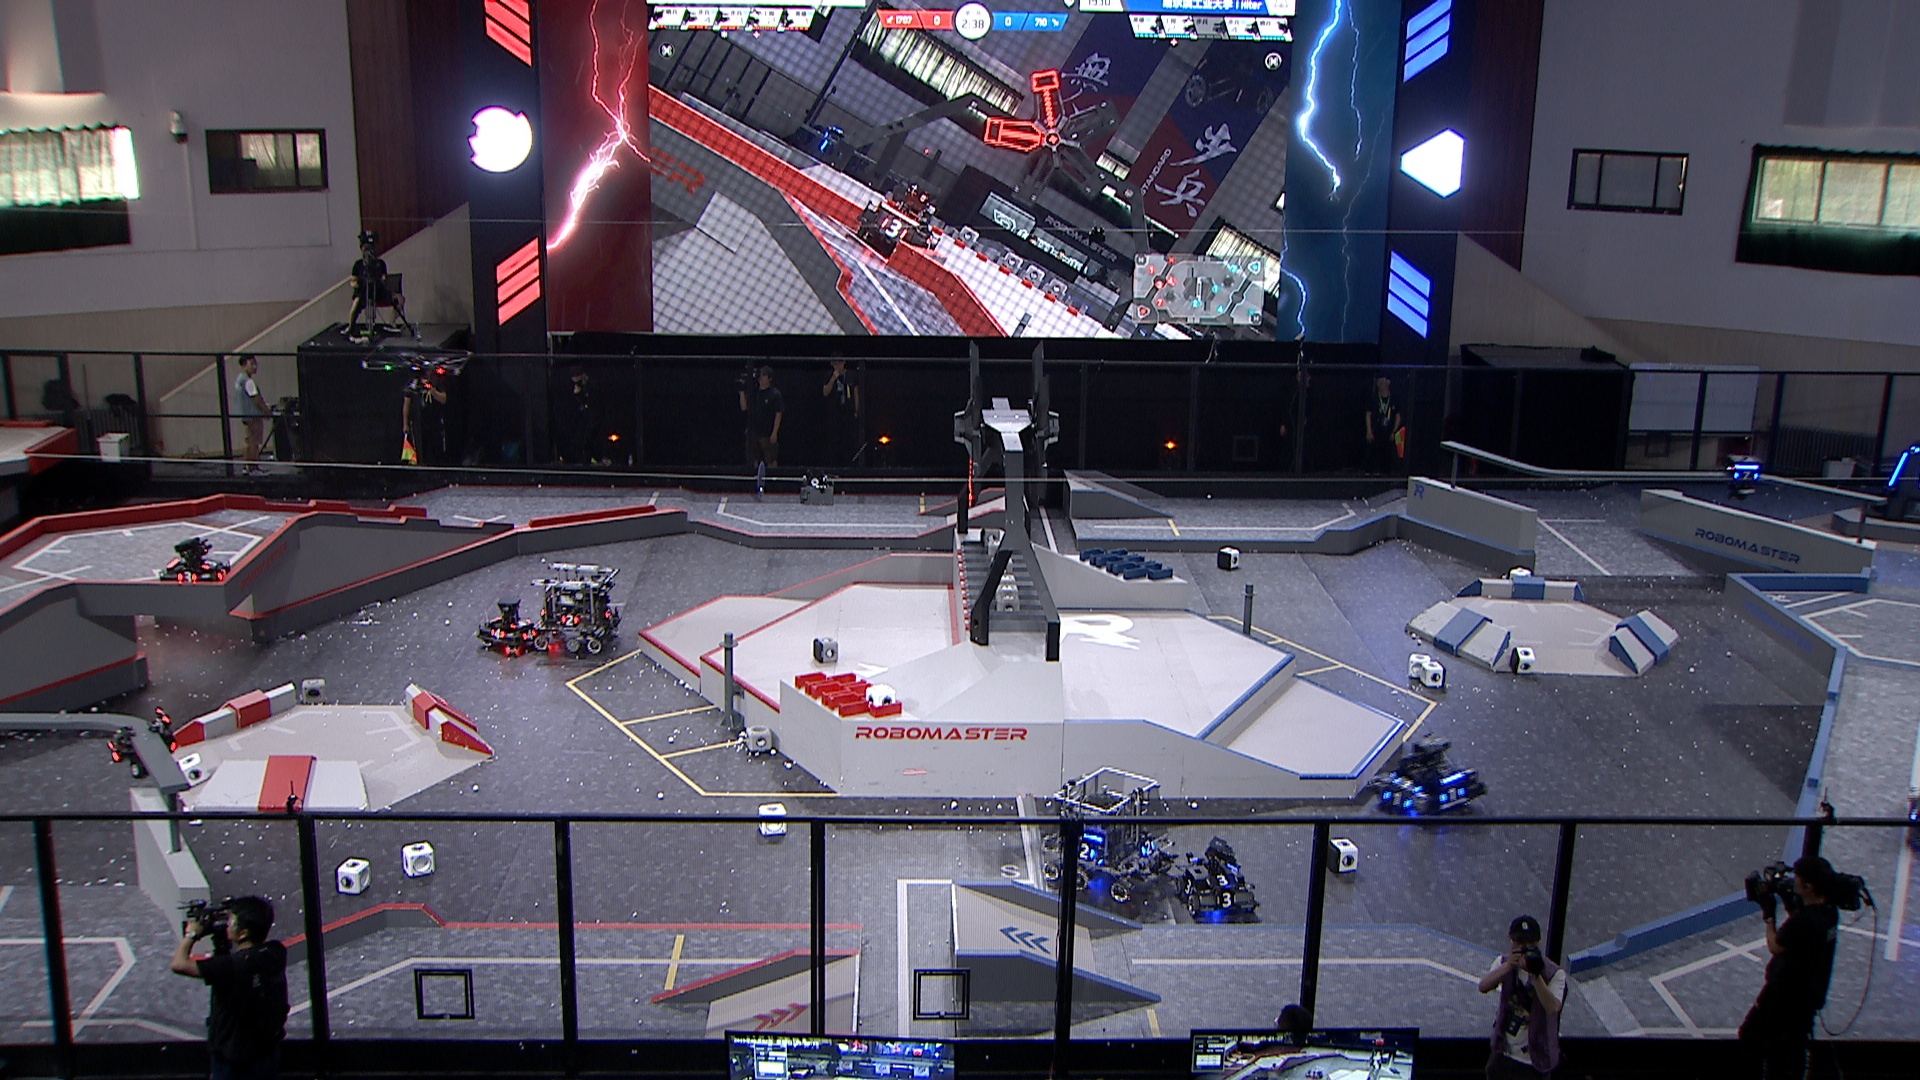armor: (1887, 451, 1909, 488), (1382, 789, 1414, 811), (1394, 775, 1424, 794), (1437, 789, 1466, 804), (1205, 874, 1240, 887), (1215, 891, 1238, 910), (105, 741, 123, 764), (1731, 469, 1760, 483), (1139, 839, 1158, 858), (1077, 843, 1097, 861), (175, 571, 200, 585), (508, 618, 531, 632), (520, 626, 538, 642), (1182, 880, 1197, 898), (215, 564, 233, 579), (560, 615, 582, 626), (489, 626, 506, 641), (199, 559, 220, 570)
base: (1865, 443, 1920, 527)
car: (1043, 766, 1182, 905), (1367, 731, 1486, 822), (531, 560, 622, 661), (1174, 837, 1261, 922), (473, 593, 545, 657), (160, 534, 233, 591)
ignore: (858, 178, 938, 262), (782, 123, 855, 182)
watcher: (105, 707, 177, 781), (1722, 454, 1764, 498)
